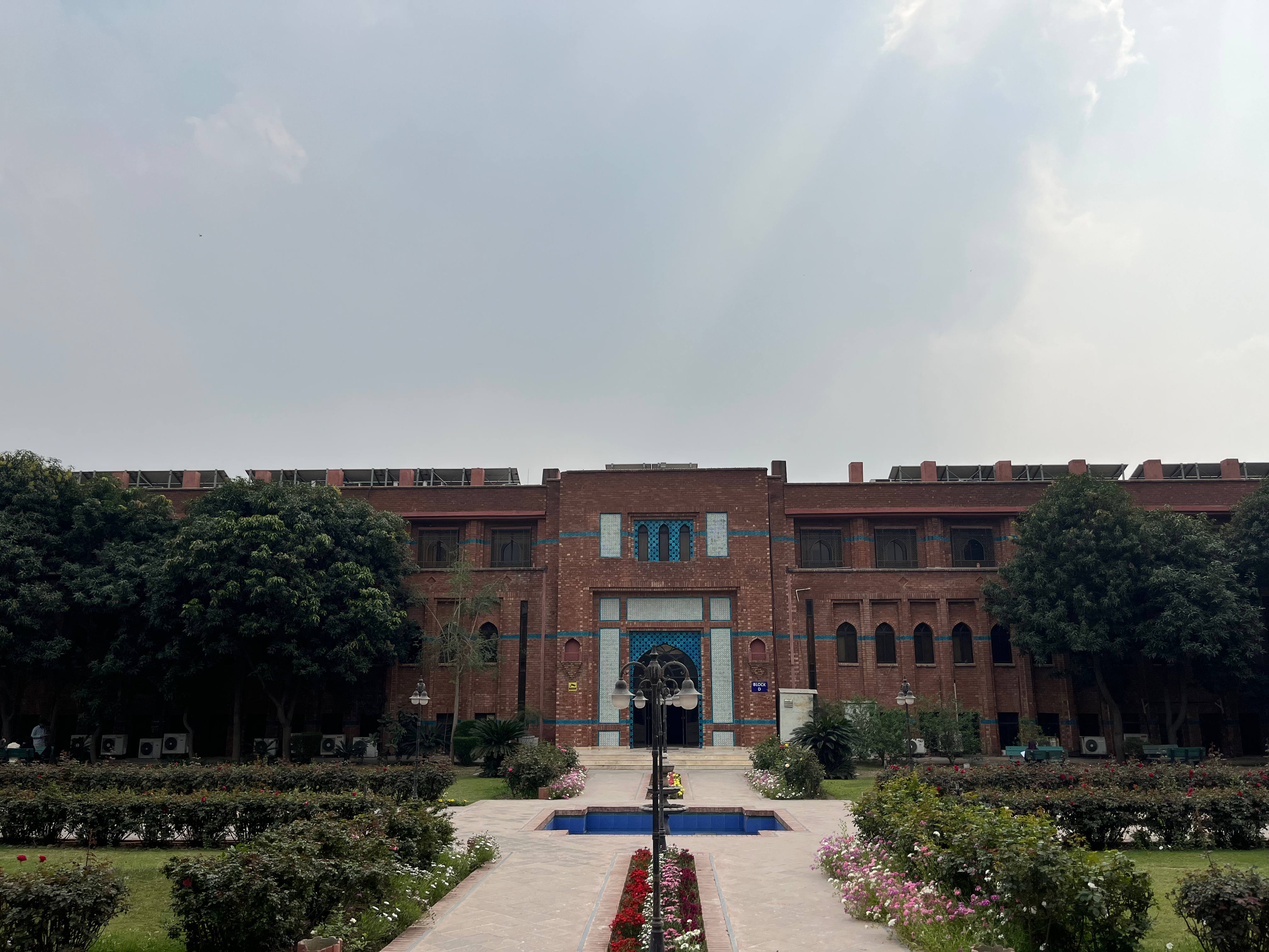Block D: (2, 456, 1269, 754)
